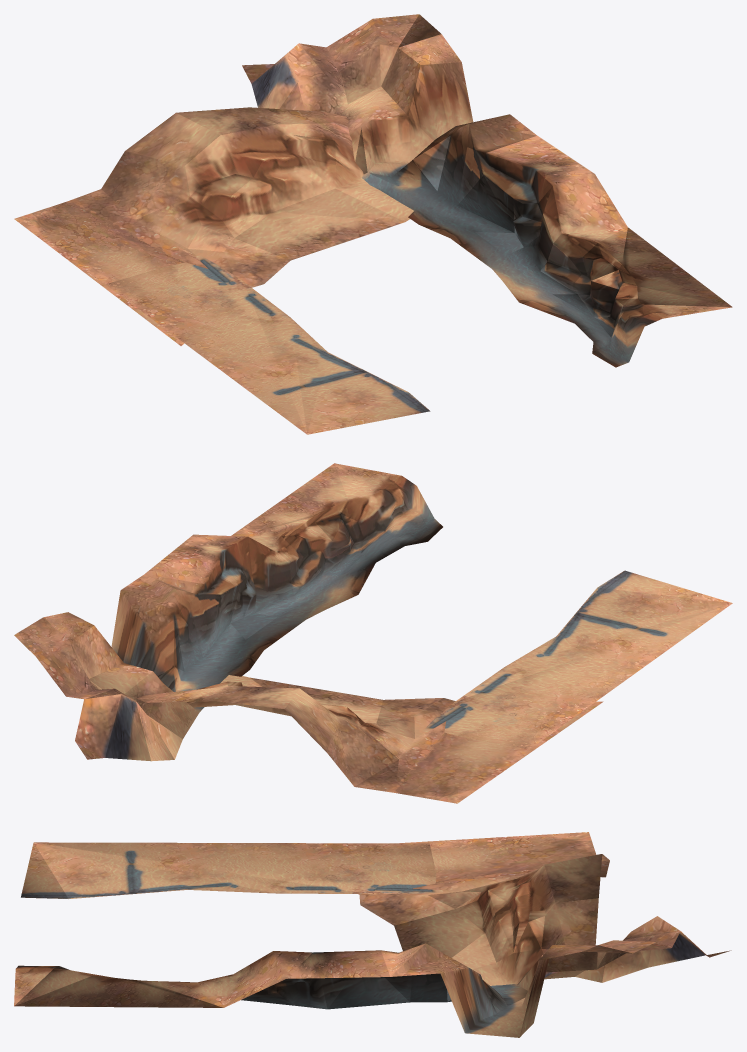
File: Battlebacks_06.FBX
3 views of the same model, one above another, from view 1: azimuth 30°, elevation 25°; view 2: azimuth 150°, elevation 25°; view 3: azimuth 270°, elevation 25° (orthographic). The views are drawn at different scales.
Visible parts, largest first — view 1: Battlebacks_06; view 2: Battlebacks_06; view 3: Battlebacks_06.
Part boxes in pixels (bbox=[...]): Battlebacks_06: bbox=[14, 14, 732, 434]; Battlebacks_06: bbox=[14, 463, 732, 803]; Battlebacks_06: bbox=[14, 832, 731, 1037].
Size of the model in its own units: 4186 by 958 by 6285.
